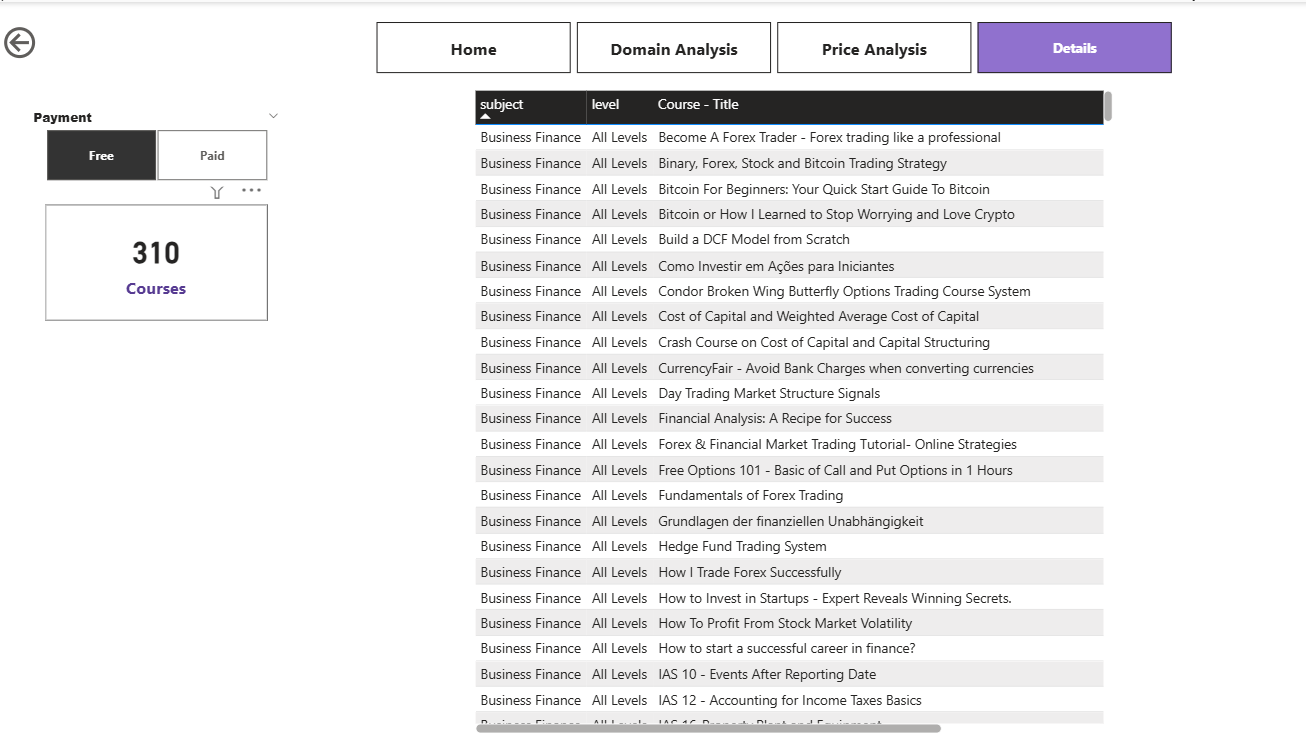

The page's visual inventory and layout, read from the dashboard file:
{"tool":"powerbi","page":{"name":"Details","canvas":[1280,720],"ordinal":3},"visuals":[{"type":"tableEx","fields":{"Values":["udemy.subject","udemy.level","udemy.Course - Title","udemy.price"]},"box":[459.8,81.9,634.7,638.3],"z":0},{"type":"card","fields":{"Values":["udemy.Courses"]},"box":[45.2,198.1,217.7,113.7],"z":1000},{"type":"slicer","fields":{"Values":["udemy.Payment"]},"box":[20.8,99,265.4,81.9],"z":2000},{"type":"actionButton","box":[0,19.6,100.3,40.4],"z":3000},{"type":"pageNavigator","box":[369.3,19.6,778.9,50.1],"z":4000}]}

Visuals, with their boxes on the page's 1280x720 design canvas (x1, y1, x2, y2). These are canvas units, not pixel positions in the 1306x735 screenshot, which may show the page scaled, cropped or inside an application window:
tableEx - udemy.subject x udemy.level: bbox=[460, 82, 1094, 720]
card - udemy.Courses: bbox=[45, 198, 263, 312]
slicer - udemy.Payment: bbox=[21, 99, 286, 181]
actionButton: bbox=[0, 20, 100, 60]
pageNavigator: bbox=[369, 20, 1148, 70]
